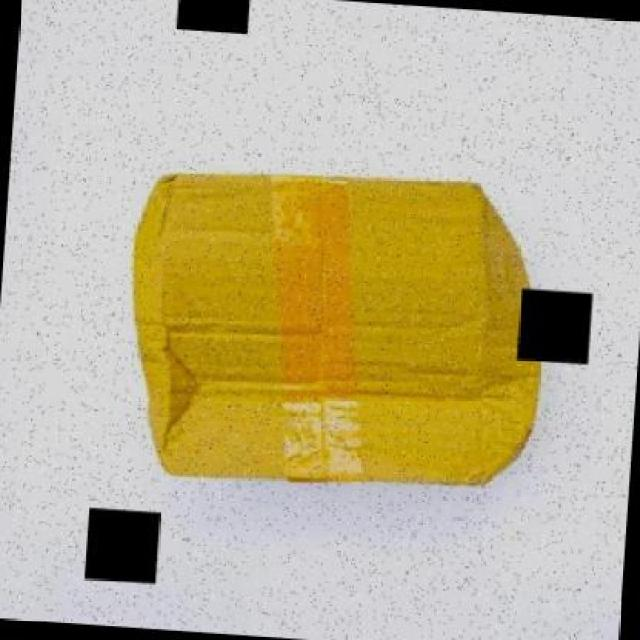box: (116, 161, 562, 504)
